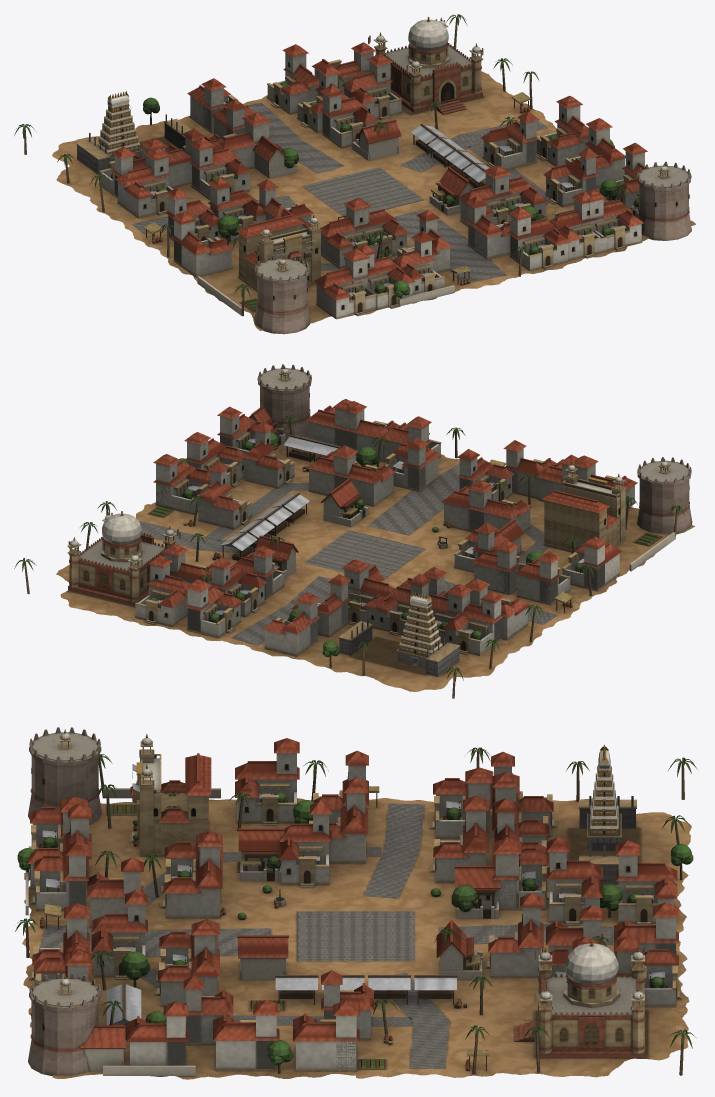
Rendered from kingdoms-town-big-a-indic.glb.
The picture shows the model from 3 angles, top to bottom: view 1: azimuth 30°, elevation 25°; view 2: azimuth 150°, elevation 25°; view 3: azimuth 270°, elevation 25°; orthographic projection. The views are drawn at different scales.
Parts seen in each view (by area): view 1: LOD0; view 2: LOD0; view 3: LOD0.
Boxes of the visible parts, x1,y1,x2,y2 form: LOD0: (14,14,695,334); LOD0: (14,364,694,698); LOD0: (15,727,697,1079).
Size of what is drawn, in the model's own units: 8.19 by 1.29 by 8.15.
3 materials, 3 textured.
